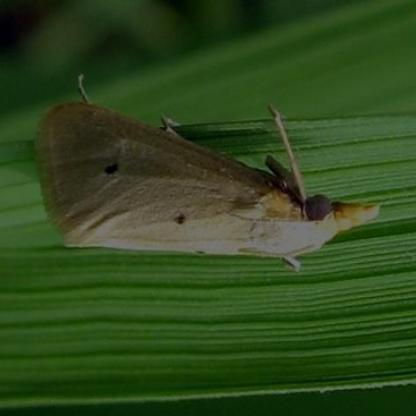stem-borer: (30, 69, 382, 273)
